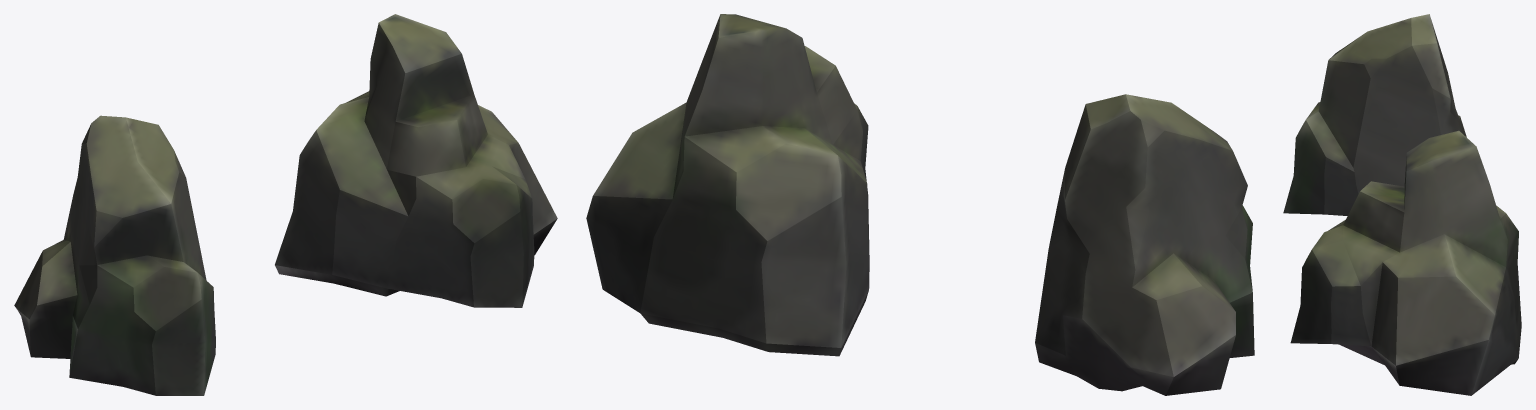
Rendered from rocks.glb.
3 renders of one model, left to right at view 1: azimuth 30°, elevation 25°; view 2: azimuth 150°, elevation 25°; view 3: azimuth 270°, elevation 25°, orthographic. The views are drawn at different scales.
Parts seen in each view (by area): view 1: Rock_2, Rock_1; view 2: Rock_2, Rock_1; view 3: Rock_2, Rock_1.
Boxes of the visible parts, box(x1,y1,x2,y2) form: Rock_2: box(275, 14, 557, 307); Rock_1: box(14, 115, 215, 395); Rock_2: box(586, 14, 869, 356); Rock_1: box(1035, 94, 1254, 395); Rock_2: box(1290, 130, 1521, 395); Rock_1: box(1283, 14, 1466, 215).
Bounding box in the file's own units: 2.39 × 1.12 × 1.11.
Materials: 1 (1 with a texture image).
